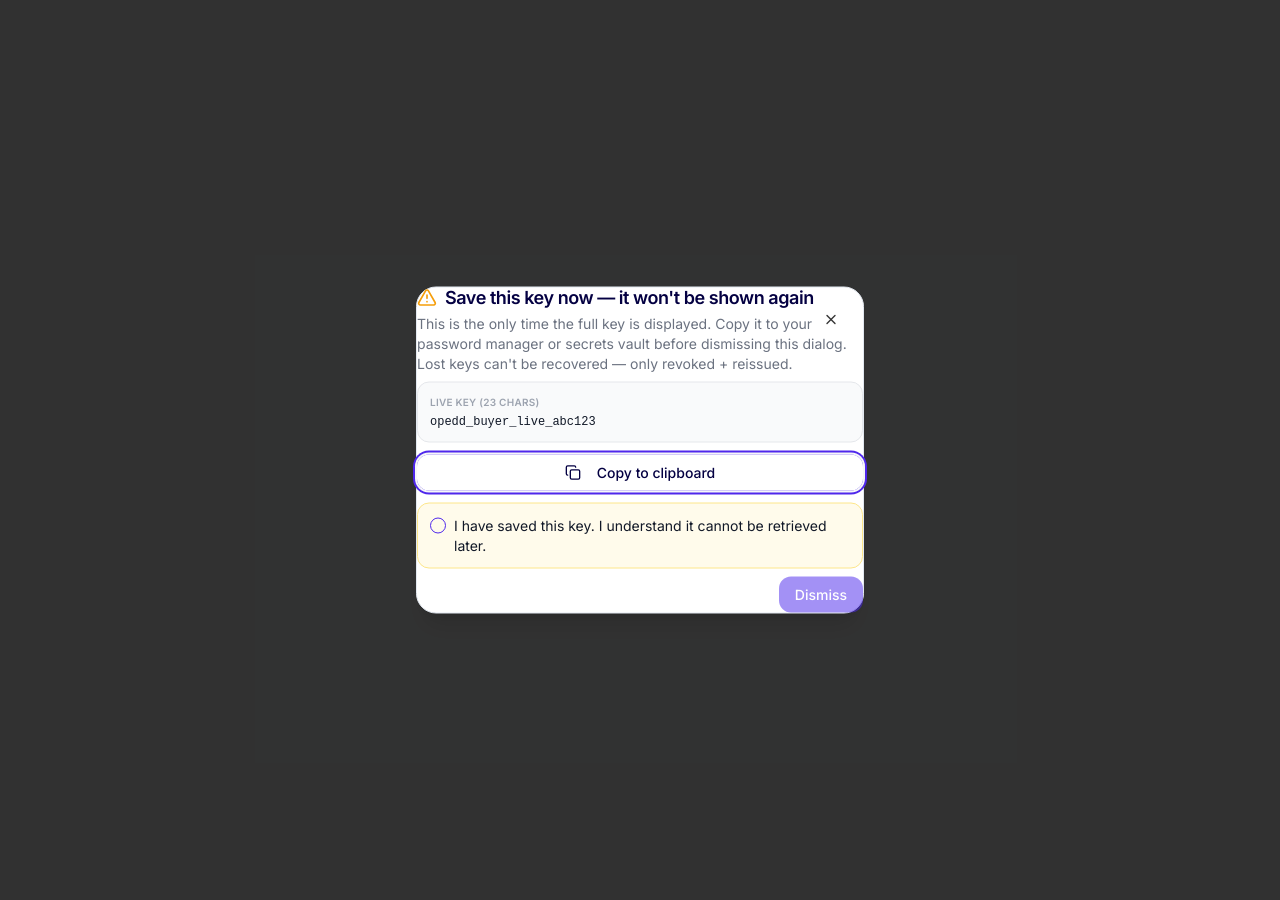
OneTimeKeyModal › dismiss button is disabled until the confirm checkbox is checked
The image size is (1280, 900).
Check: the button with test id "dismiss-btn" is disabled, box [779, 576, 863, 612]
Click the checkbox with test id "confirm-checkbox".
click(438, 526)  # box [430, 518, 446, 534]
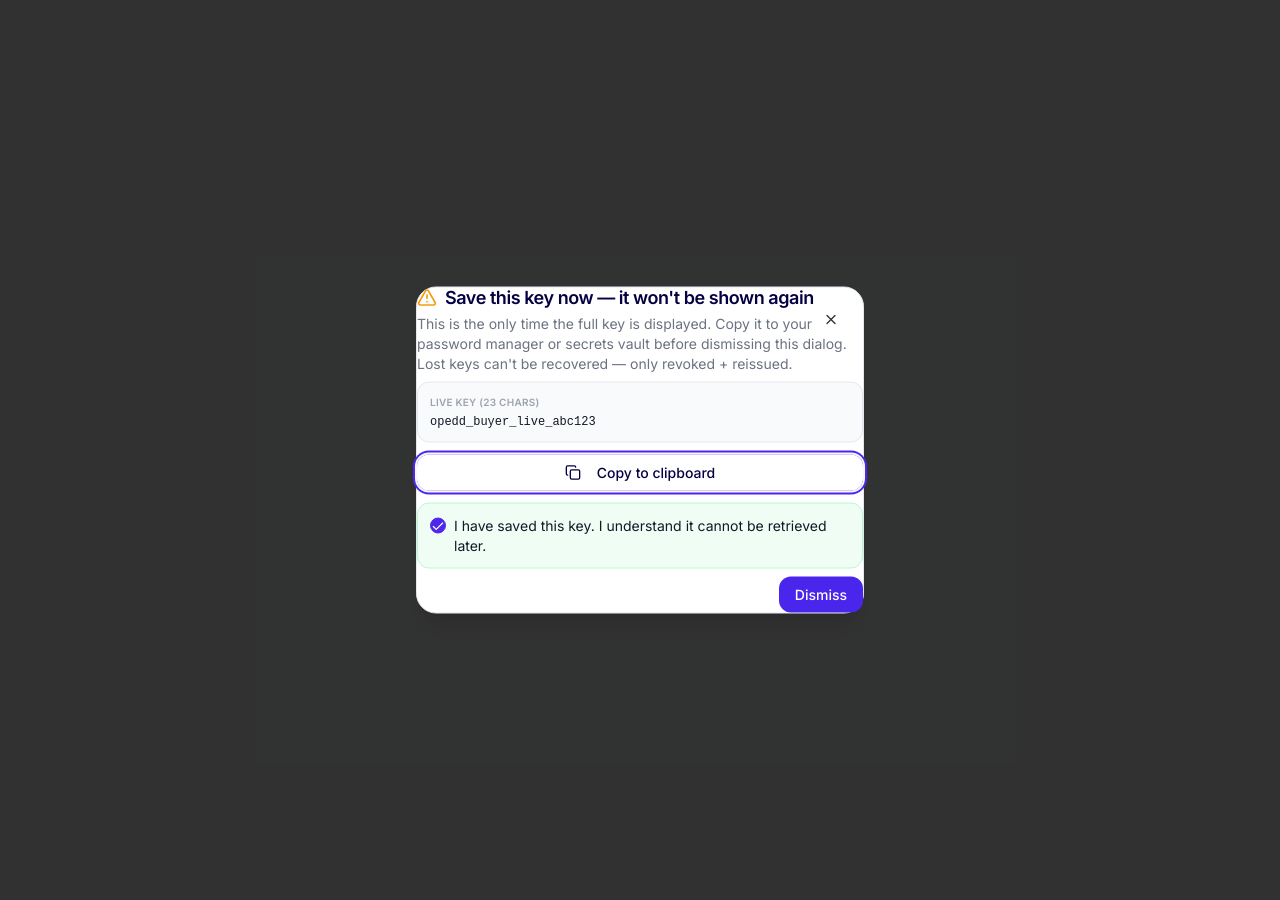
Check: the button with test id "dismiss-btn" is enabled, box [779, 576, 863, 612]
